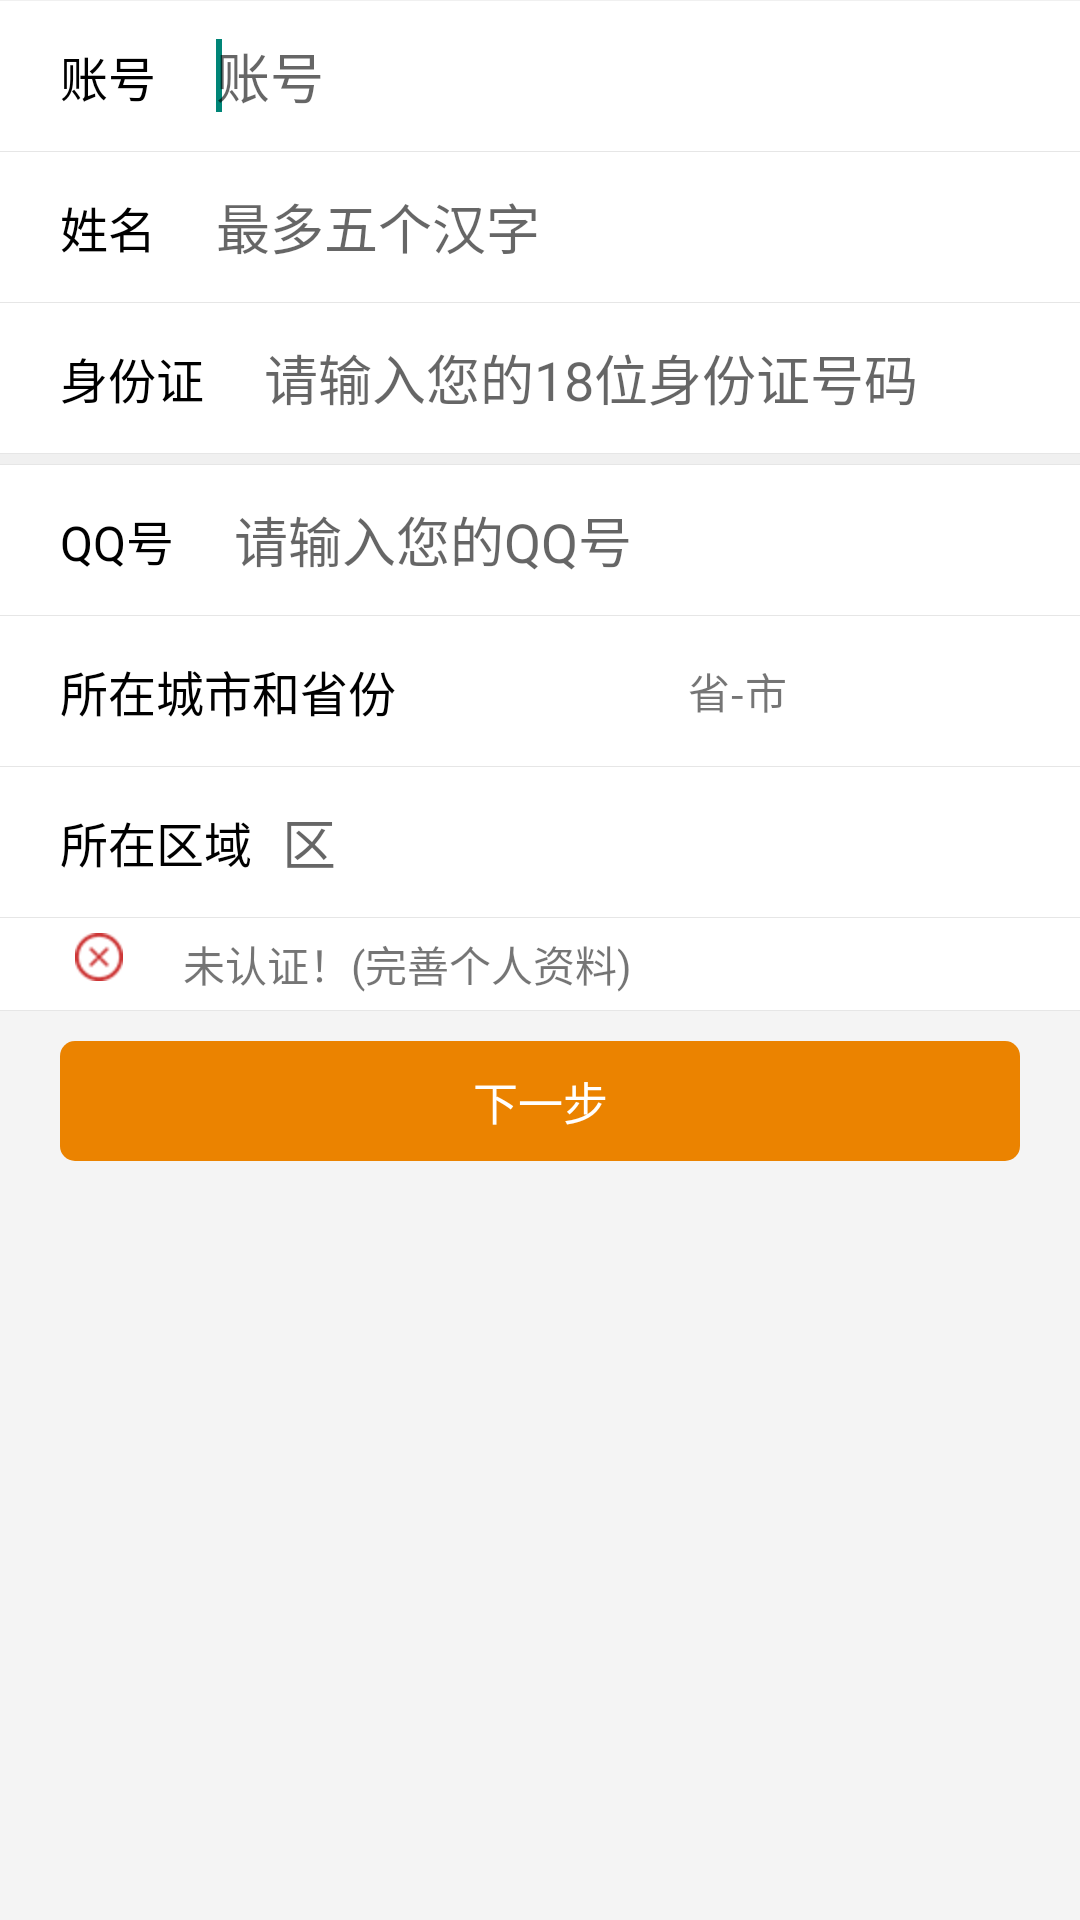

Icon bounding boxes for this 1080w x 1920h phone screenshot, format bbox=[x1, y1, x2, y2]:
prompt not: bbox=[75, 933, 123, 981]
